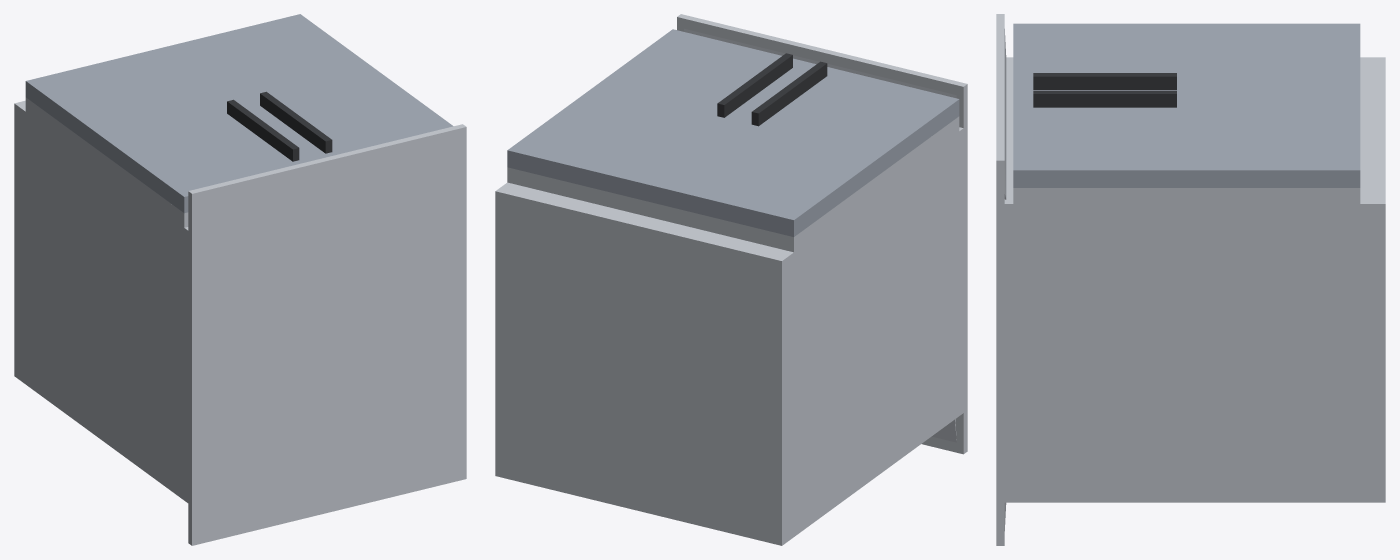
The model's file is counter_counter.obj.
3 views of the same model, side by side, from view 1: azimuth 30°, elevation 25°; view 2: azimuth 150°, elevation 25°; view 3: azimuth 270°, elevation 25° (orthographic). The views are drawn at different scales.
Visible parts, largest first — view 1: Cube.368, Cube.406, Cube.413; view 2: Cube.368, Cube.406, Cube.413; view 3: Cube.368, Cube.413, Cube.406.
Boxes of the visible parts, bbox=[...] form: Cube.368: bbox=[14, 97, 466, 545]; Cube.406: bbox=[25, 47, 315, 213]; Cube.413: bbox=[163, 14, 453, 159]; Cube.368: bbox=[495, 14, 967, 545]; Cube.406: bbox=[650, 61, 959, 236]; Cube.413: bbox=[507, 29, 815, 201]; Cube.368: bbox=[996, 14, 1385, 545]; Cube.413: bbox=[1013, 90, 1360, 187]; Cube.406: bbox=[1013, 23, 1360, 96].
Bounding box in the file's own units: 0.6202 × 0.7673 × 0.6957.
Materials: 1 (1 with a texture image).
